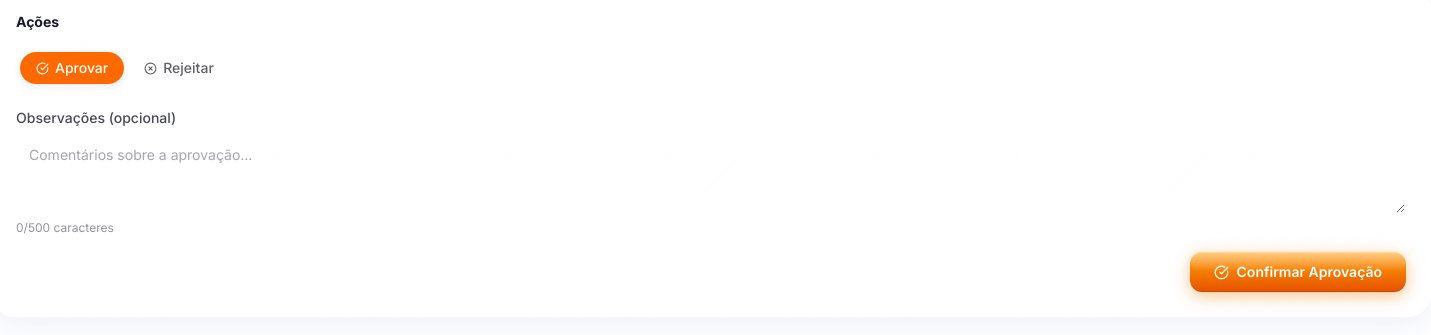
it: ApprovalForm › tab switching › switches back to approve form from reject tab
Click the button "Rejeitar". click: (179, 68)
box: [128,52,230,84]
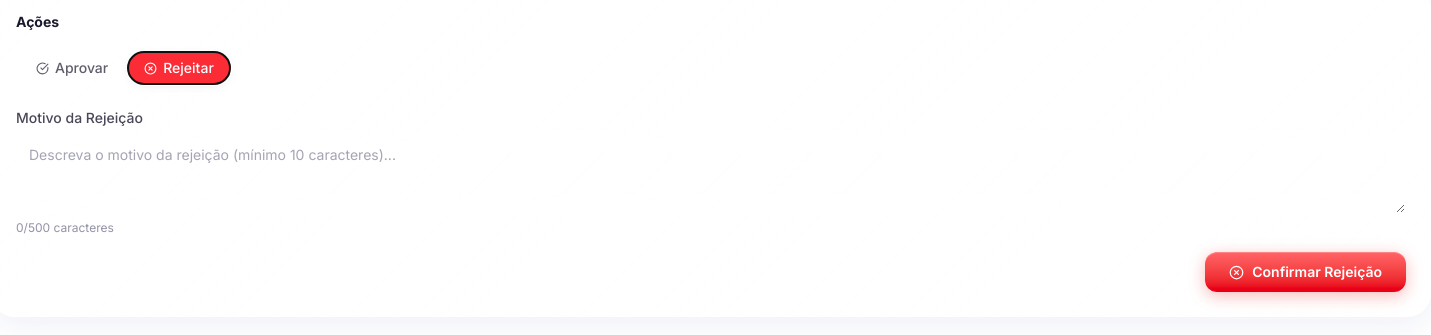
Click the button "Aprovar". click: (72, 68)
box: [20,52,124,84]
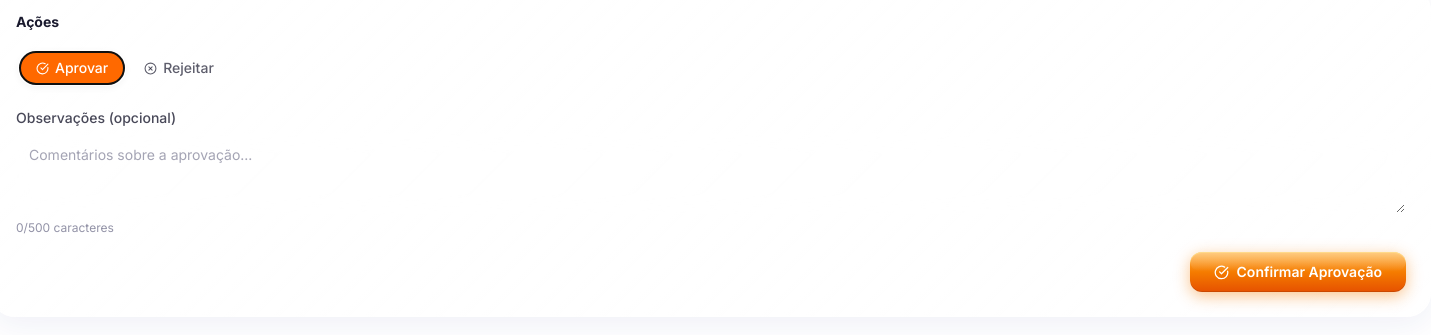
Now the text box with placeholder "Comentários sobre a aprovação..." is shown, box [16,134,1406,214]
